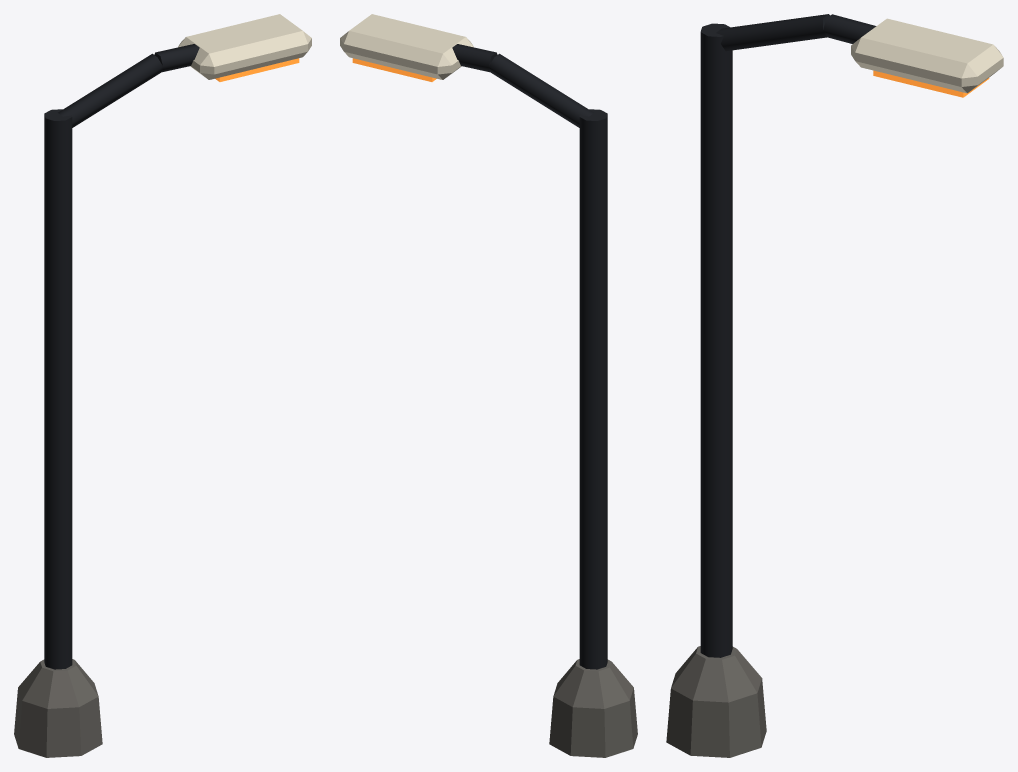
File: lamp.glb
3 renders of one model, left to right at view 1: azimuth 30°, elevation 25°; view 2: azimuth 150°, elevation 25°; view 3: azimuth 330°, elevation 25°, orthographic. The views are drawn at different scales.
Parts seen in each view (by area): view 1: lamp_mesh; view 2: lamp_mesh; view 3: lamp_mesh.
Boxes of the visible parts, x1=… form: lamp_mesh: x1=14, y1=14, x2=311, y2=757; lamp_mesh: x1=340, y1=14, x2=637, y2=757; lamp_mesh: x1=666, y1=14, x2=1003, y2=757.
Bounding box in the file's own units: 1.56 × 3.49 × 0.44.
